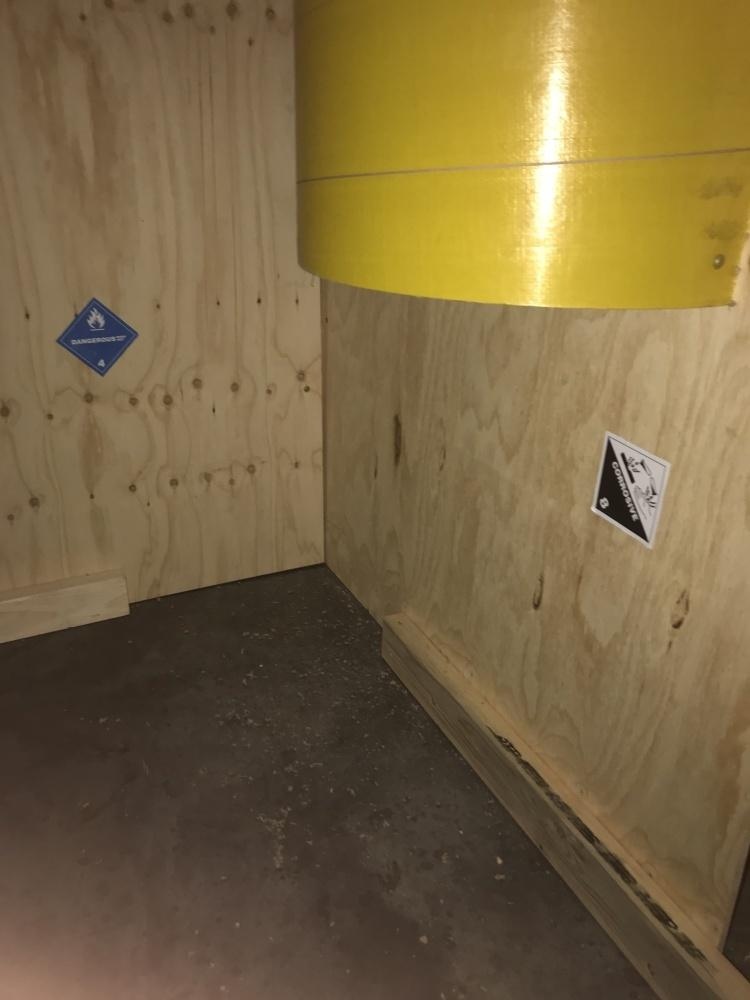corrosive: (589, 430, 671, 550)
dangerous-when-wet: (55, 297, 140, 379)
